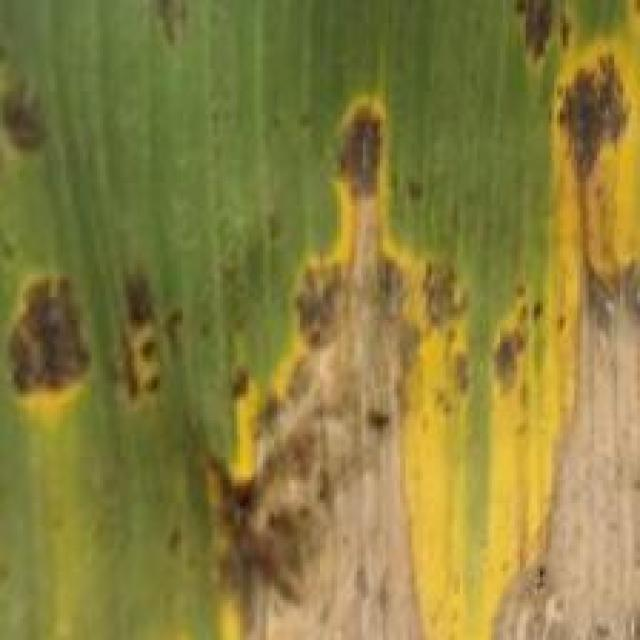Downey_mildrew: (144, 0, 637, 640), (4, 33, 192, 453)
